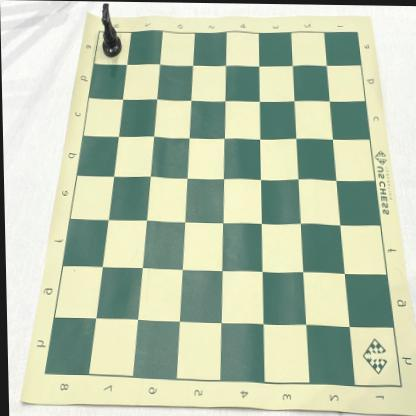black-knight: (101, 3, 122, 58)
